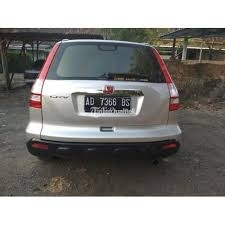plate: (85, 94, 131, 112)
